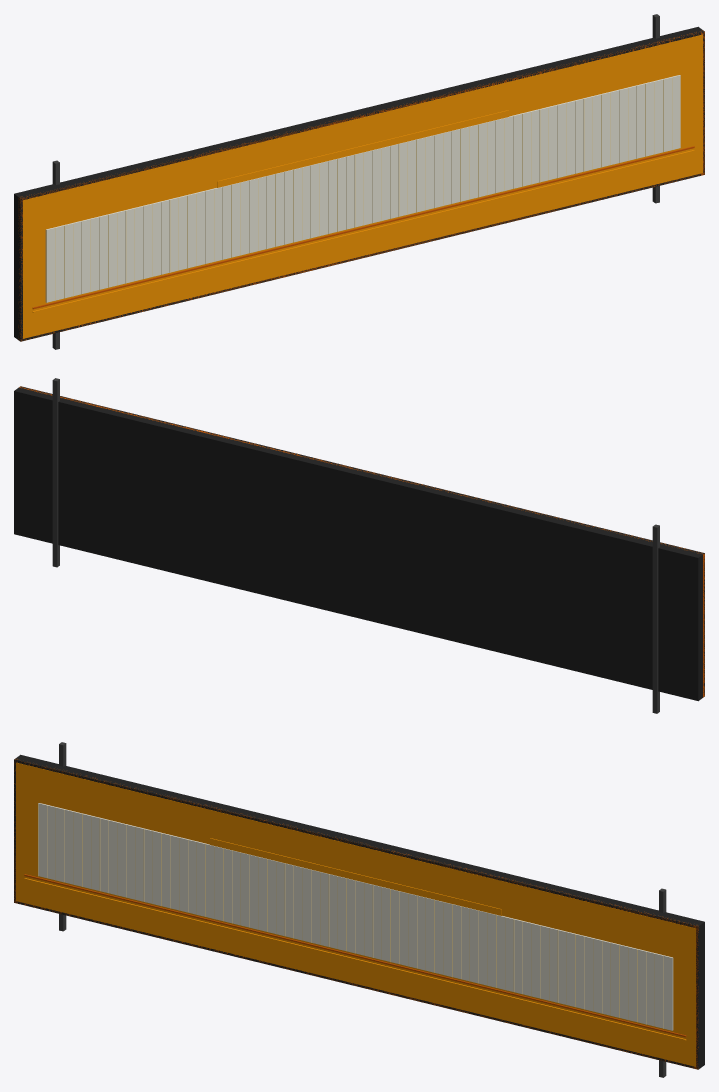
The model's file is Chữ mica sáng mặt chân đứng đơn.obj.
The picture shows the model from 3 angles, top to bottom: view 1: azimuth 30°, elevation 25°; view 2: azimuth 150°, elevation 25°; view 3: azimuth 330°, elevation 25°; orthographic projection.
Parts seen in each view (by area): view 1: Nen_ton_song_trang, Mat_bien_vang_cam, Mat_sau_bien, Chu_Banh_Bao_Tuoi, Nep_ngang_tren, Nep_ngang_duoi, Nep_tren, Nep_duoi; view 2: Mat_sau_bien, Tru_gia_cuong)_1, Tru_gia_cuong)_2, Nep_tren; view 3: Nen_ton_song_trang, Mat_bien_vang_cam, Mat_sau_bien, Chu_Banh_Bao_Tuoi, Nep_ngang_tren, Nep_ngang_duoi, Nep_tren, Nep_duoi.
Part boxes in pixels (box(x1,y1,x2,y2)): Nen_ton_song_trang: box(45, 75, 680, 302); Mat_bien_vang_cam: box(23, 34, 702, 338); Mat_sau_bien: box(14, 26, 704, 341); Chu_Banh_Bao_Tuoi: box(217, 110, 509, 187); Nep_ngang_tren: box(32, 146, 694, 309); Nep_ngang_duoi: box(32, 150, 694, 312); Nep_tren: box(18, 30, 704, 202); Nep_duoi: box(21, 172, 704, 340); Mat_sau_bien: box(14, 386, 704, 701); Tru_gia_cuong)_1: box(652, 524, 659, 713); Tru_gia_cuong)_2: box(52, 378, 59, 567); Nep_tren: box(19, 386, 704, 558); Nen_ton_song_trang: box(38, 803, 673, 1030); Mat_bien_vang_cam: box(16, 762, 695, 1066); Mat_sau_bien: box(14, 754, 704, 1069); Chu_Banh_Bao_Tuoi: box(209, 838, 501, 915); Nep_ngang_tren: box(24, 874, 686, 1037); Nep_ngang_duoi: box(24, 878, 686, 1040); Nep_tren: box(15, 759, 698, 930); Nep_duoi: box(15, 899, 698, 1068).
Size of the model in its own units: 6 by 1.56 by 0.138.
